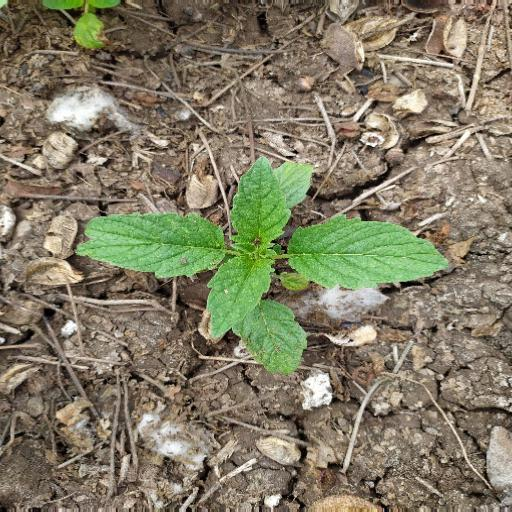crop: (59, 165, 457, 360)
